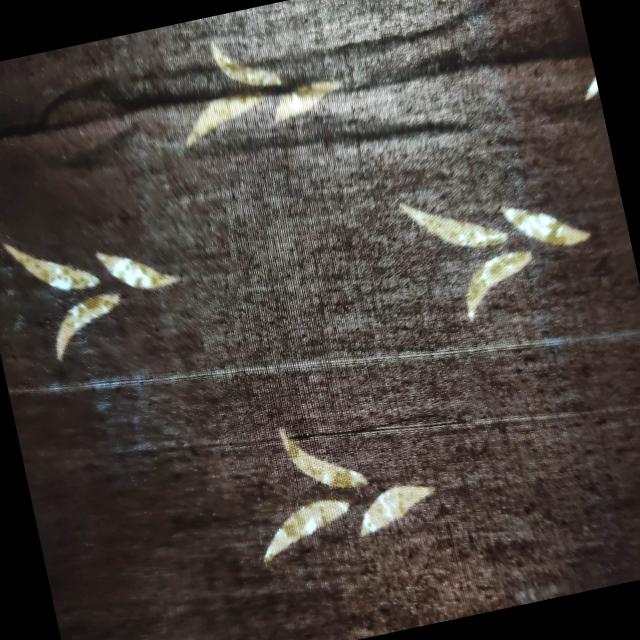baekra: (26, 327, 208, 432)
